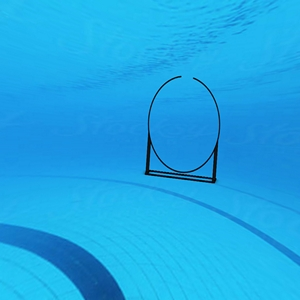circle: (144, 72, 222, 187)
